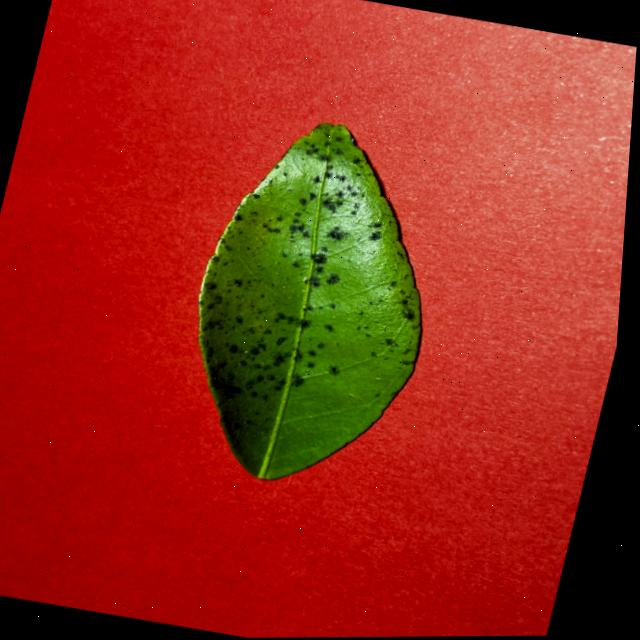sooty_mold: (199, 123, 421, 469)
